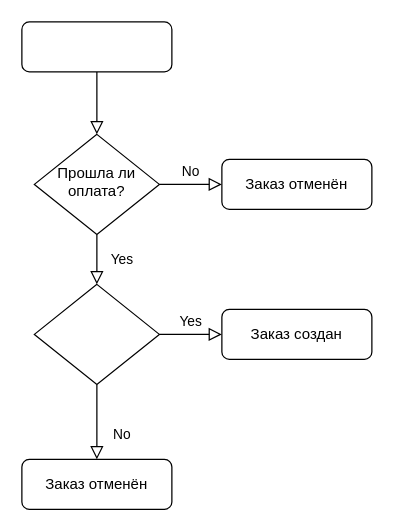
Image size: 394x531. Some labels were removed from this diagram. The centre of each missing label's shape, as x and y in pixels:
"Есть ли ингредиенты" goes at point 96,333.
"Получение заказа" goes at point 96,46.
